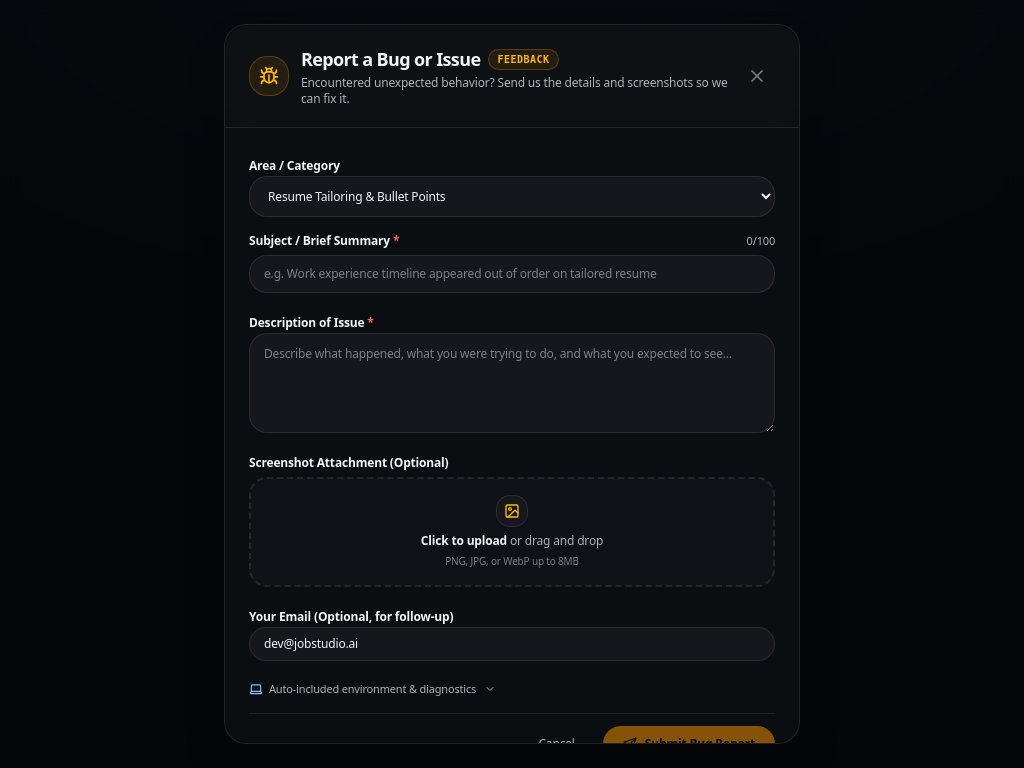
Scenario: Bug Reporting System › toggles diagnostic details visibility
The image size is (1024, 768).
Expected: the text "page tab:" is not shown
Click the button "Auto-included environment & diagnostics": click(373, 689) [249,681,496,697]
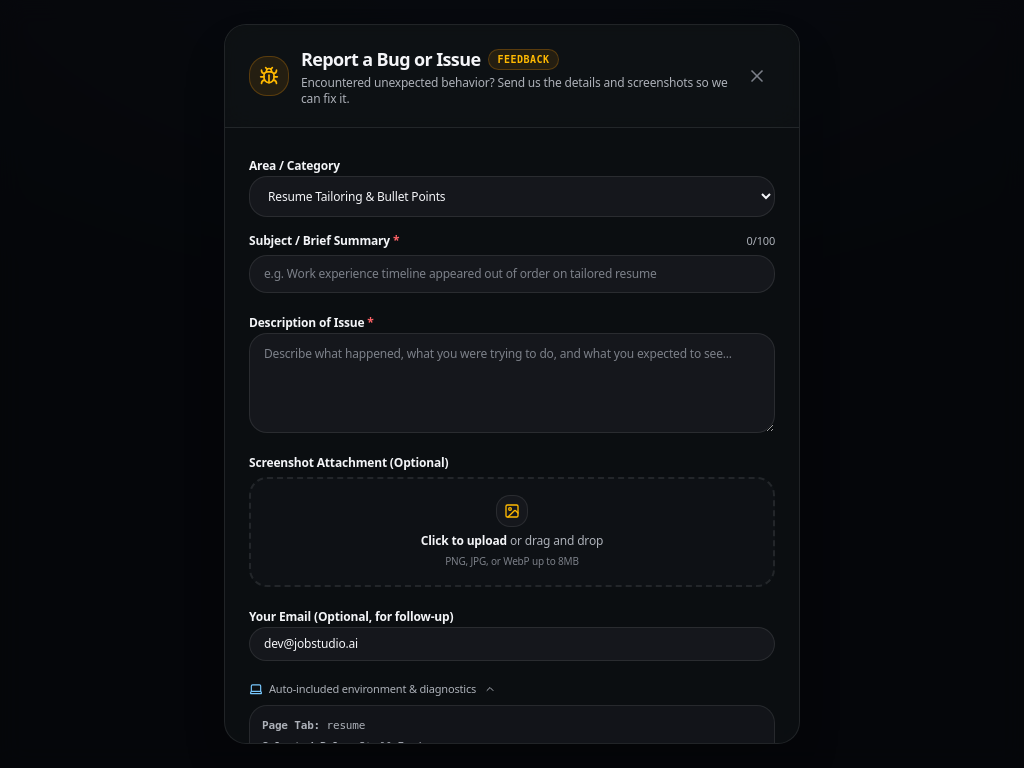
Expected: the text "Page Tab:" is shown, [262,719,320,732]
